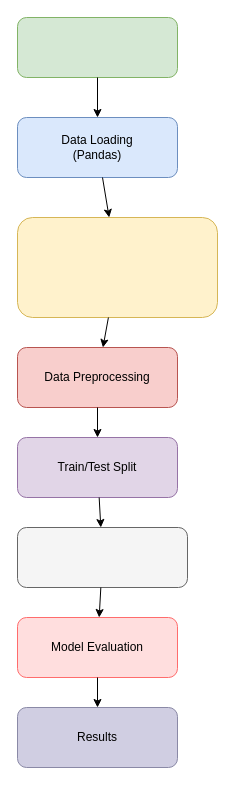
Image size: 235x785. Some labels were removed from this diagram. Here are the shapes that lost their labels. From the top down, the centre of each, then its label:
At (x=97, y=47): "Dataset Selection Iris.csv".
At (x=117, y=267): "Data Inspection - shape - head - columns - dtypes".
At (x=102, y=557): "Model Training (Classification)".
